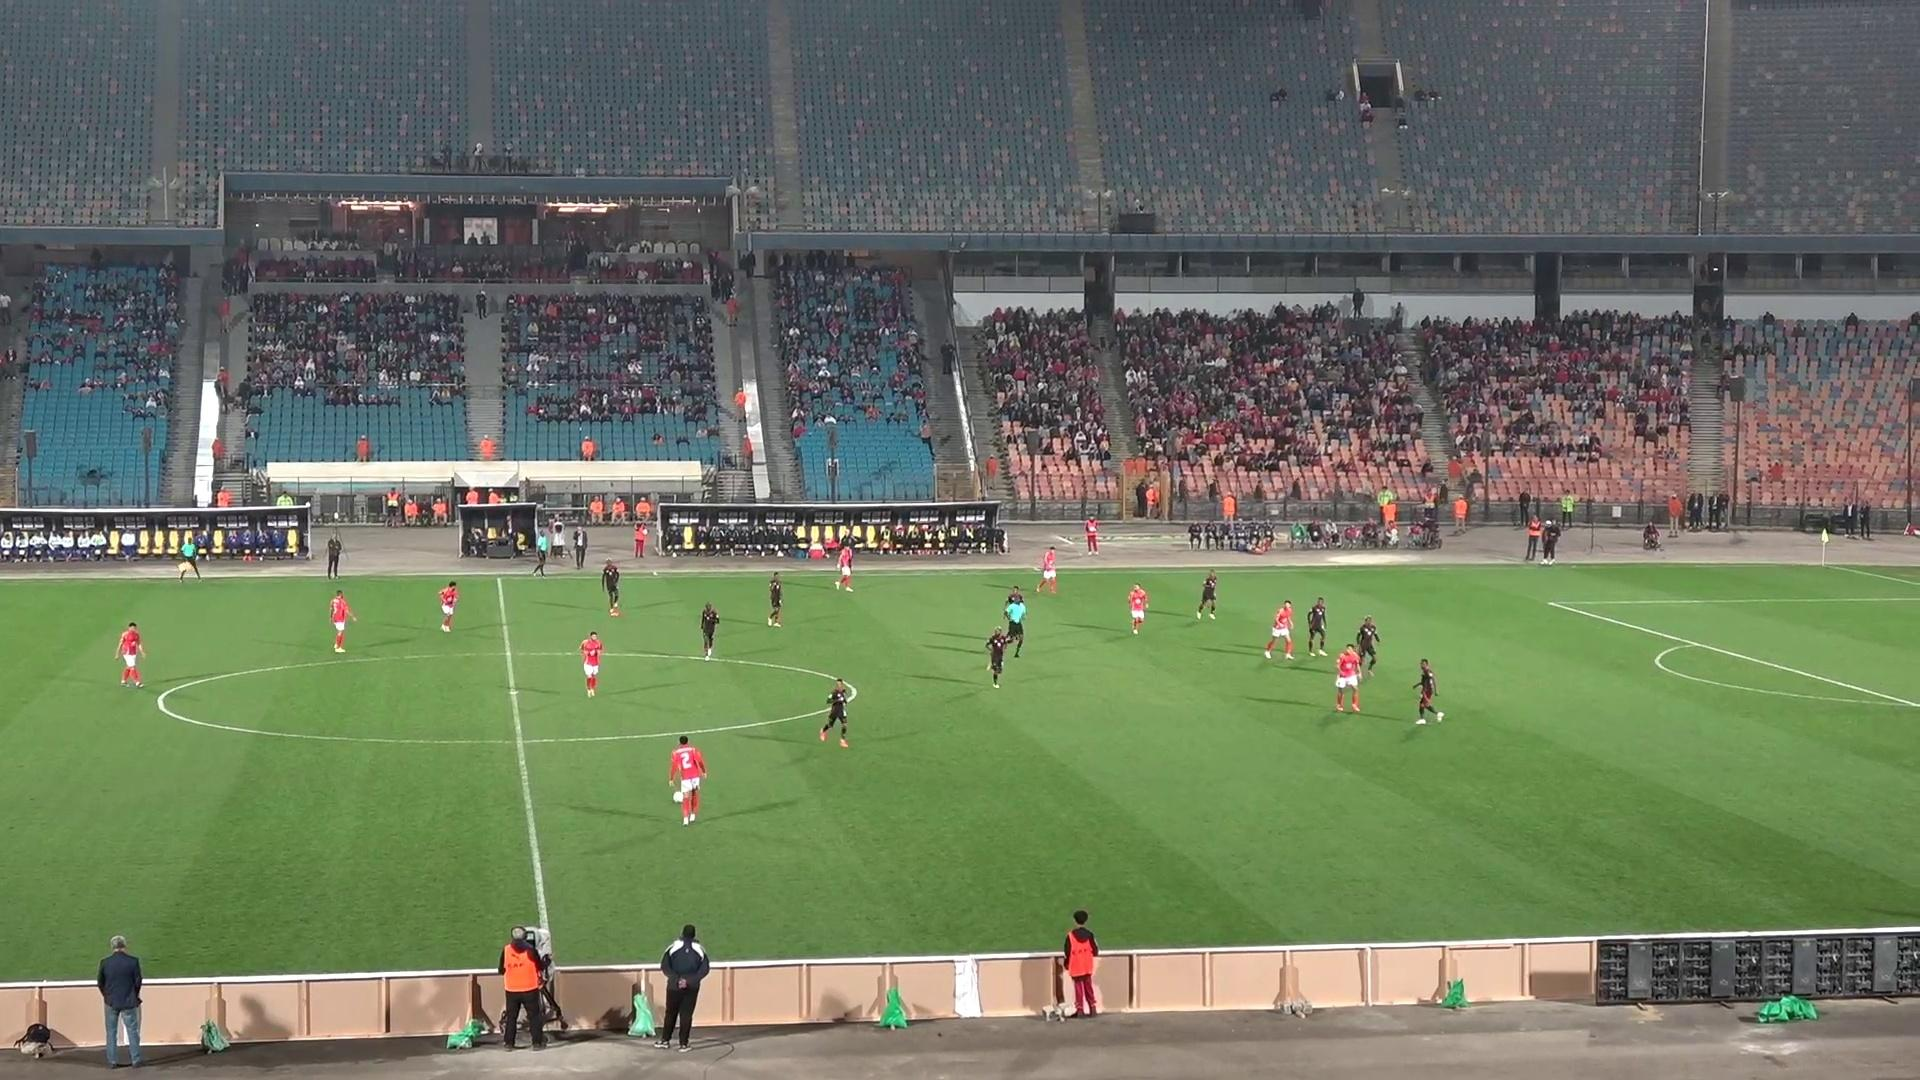Refree: (531, 517, 564, 576), (177, 525, 208, 580), (1004, 587, 1029, 655)
Team1: (670, 735, 708, 825), (1335, 645, 1366, 712), (115, 622, 145, 686), (1263, 599, 1294, 659), (330, 589, 355, 653), (580, 632, 604, 698), (439, 582, 459, 633), (1036, 546, 1058, 593), (1129, 584, 1149, 634), (835, 538, 852, 591)
Team2: (818, 678, 857, 746), (986, 626, 1023, 687), (1414, 661, 1444, 723), (1354, 616, 1379, 673), (1305, 597, 1327, 655), (600, 559, 621, 615), (700, 603, 720, 661), (1195, 571, 1218, 618), (766, 572, 783, 626)
